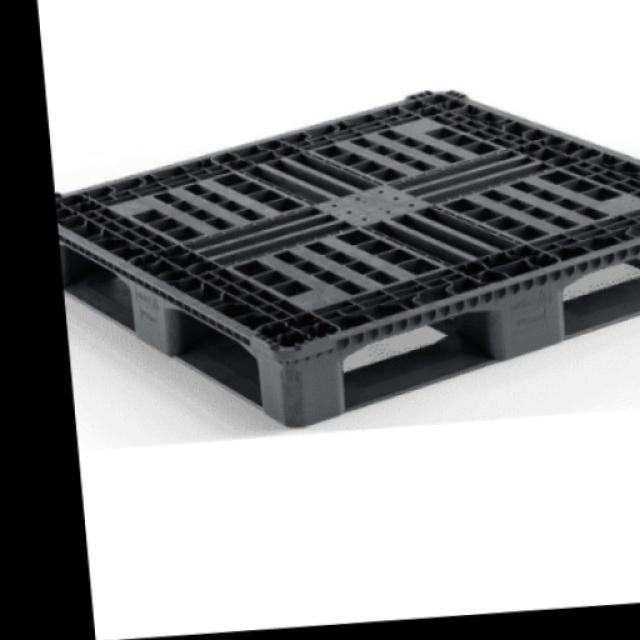non-igps: (52, 84, 640, 431)
